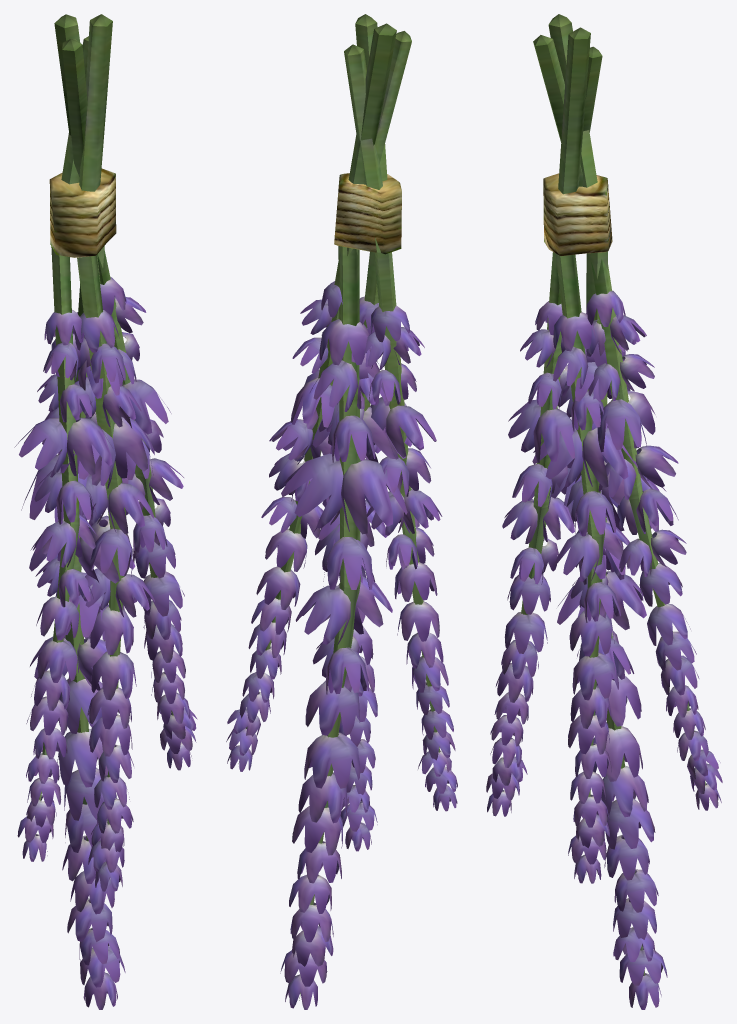
Rendered from Lavender_Single.fbx.
3 views of the same model, side by side, from view 1: azimuth 30°, elevation 25°; view 2: azimuth 150°, elevation 25°; view 3: azimuth 330°, elevation 25° (orthographic). The views are drawn at different scales.
Parts seen in each view (by area): view 1: LavenderFlower.001, LavenderStem.001, Rope.001; view 2: LavenderFlower.001, LavenderStem.001, Rope.001; view 3: LavenderFlower.001, LavenderStem.001, Rope.001.
Boxes of the visible parts, x1=… form: LavenderFlower.001: x1=14, y1=277, x2=197, y2=1009; LavenderStem.001: x1=35, y1=14, x2=173, y2=841; Rope.001: x1=49, y1=168, x2=116, y2=257; LavenderFlower.001: x1=226, y1=281, x2=457, y2=1009; LavenderStem.001: x1=238, y1=14, x2=439, y2=1000; Rope.001: x1=334, y1=173, x2=401, y2=254; LavenderFlower.001: x1=486, y1=290, x2=722, y2=1009; LavenderStem.001: x1=521, y1=14, x2=709, y2=1001; Rope.001: x1=543, y1=173, x2=612, y2=255.
Bounding box in the file's own units: 219 × 1034 × 129.
Materials: 2 (2 with a texture image).
